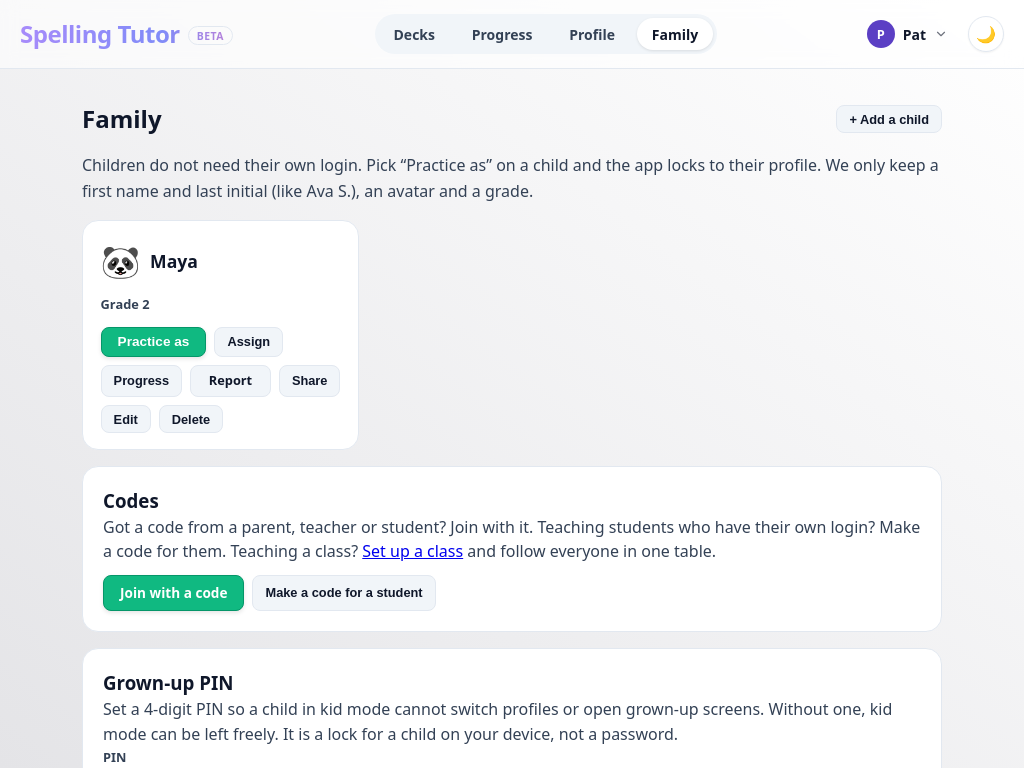
Family page: shared children and students › makes a code for a student to link their own account
Click the button "Make a code for a student": (344, 593) [252,575,436,611]
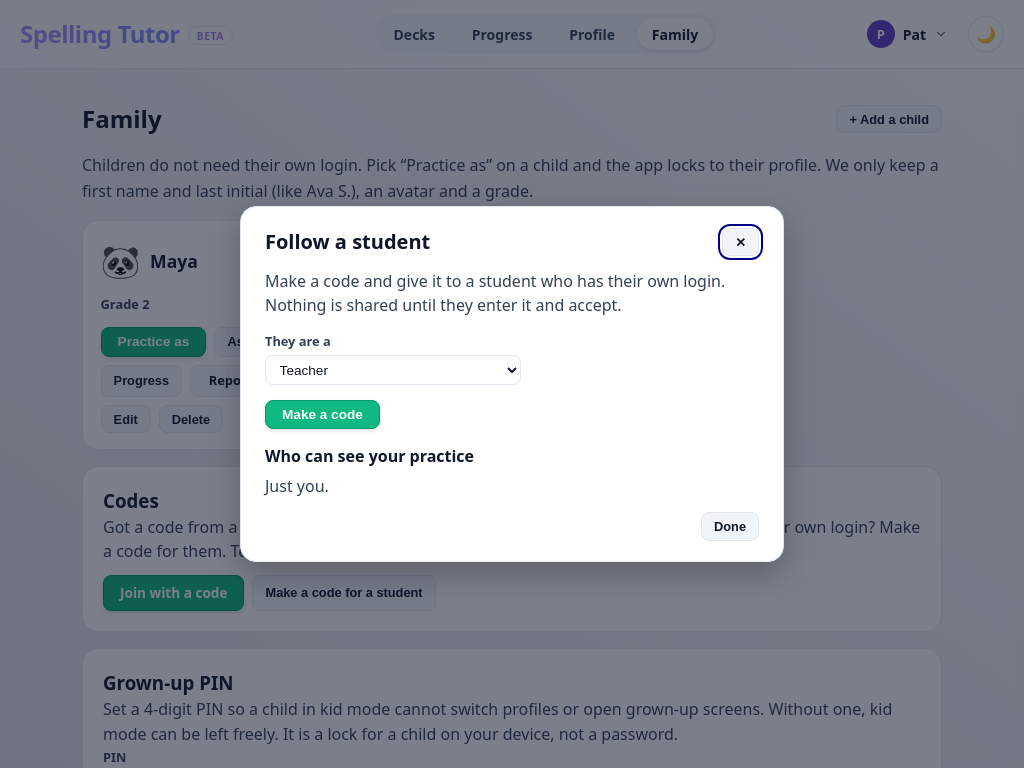
Click the button "Make a code": (322, 414) [265,400,380,429]
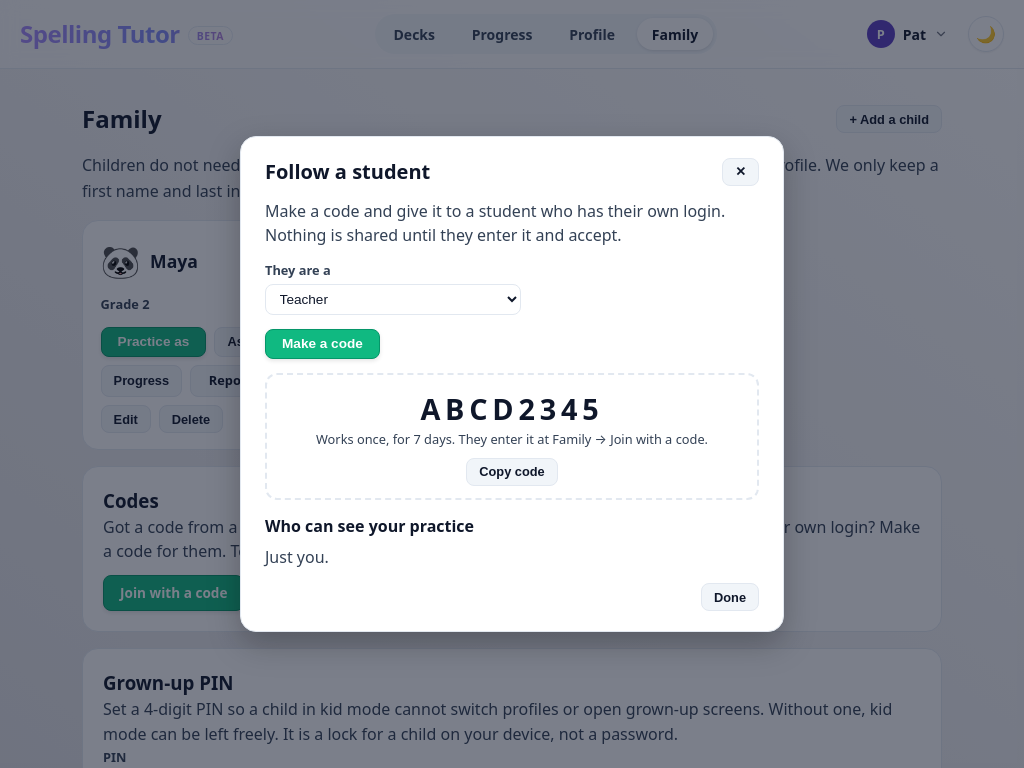
Now the text "ABCD2345" is shown, box [420,389,604,428]
